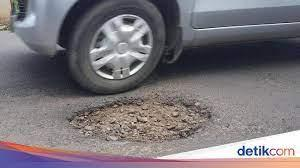Pothole: (62, 99, 228, 147)
